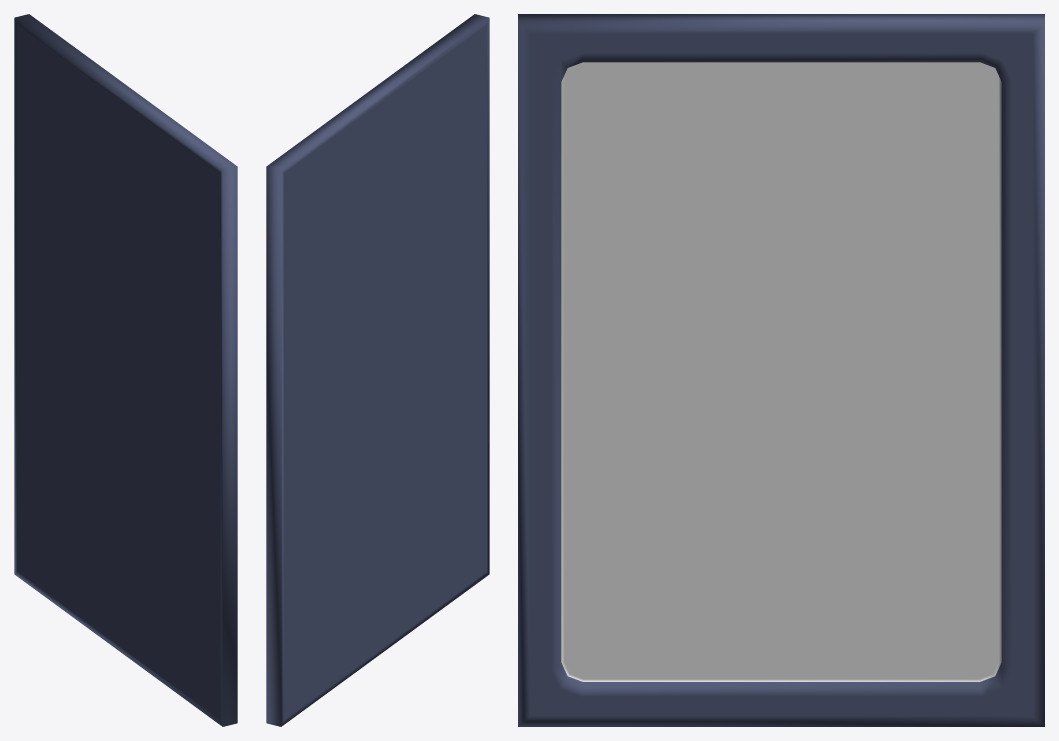
The model's file is Espelhinho.fbx.
The picture shows the model from 3 angles, left to right: view 1: azimuth 30°, elevation 25°; view 2: azimuth 150°, elevation 25°; view 3: azimuth 270°, elevation 25°; orthographic projection. The views are drawn at different scales.
Parts seen in each view (by area): view 1: Cube.048; view 2: Cube.048; view 3: Cube.048.
Boxes of the visible parts, box(x1,y1,x2,y2) form: Cube.048: box(14, 14, 237, 726); Cube.048: box(266, 14, 489, 726); Cube.048: box(518, 14, 1044, 726).
Size of the model in its own units: 38.43 by 1387 by 940.
